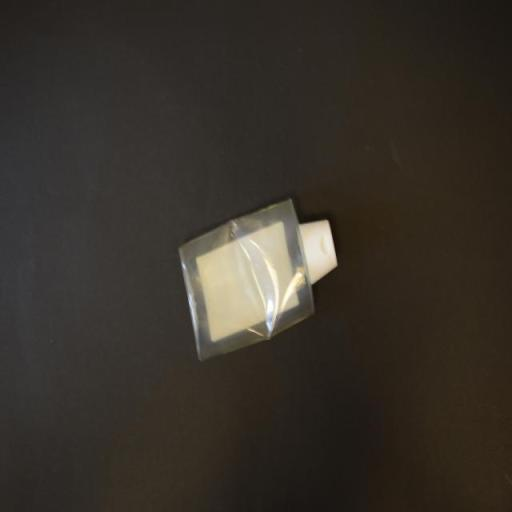plastic: (178, 194, 340, 362)
